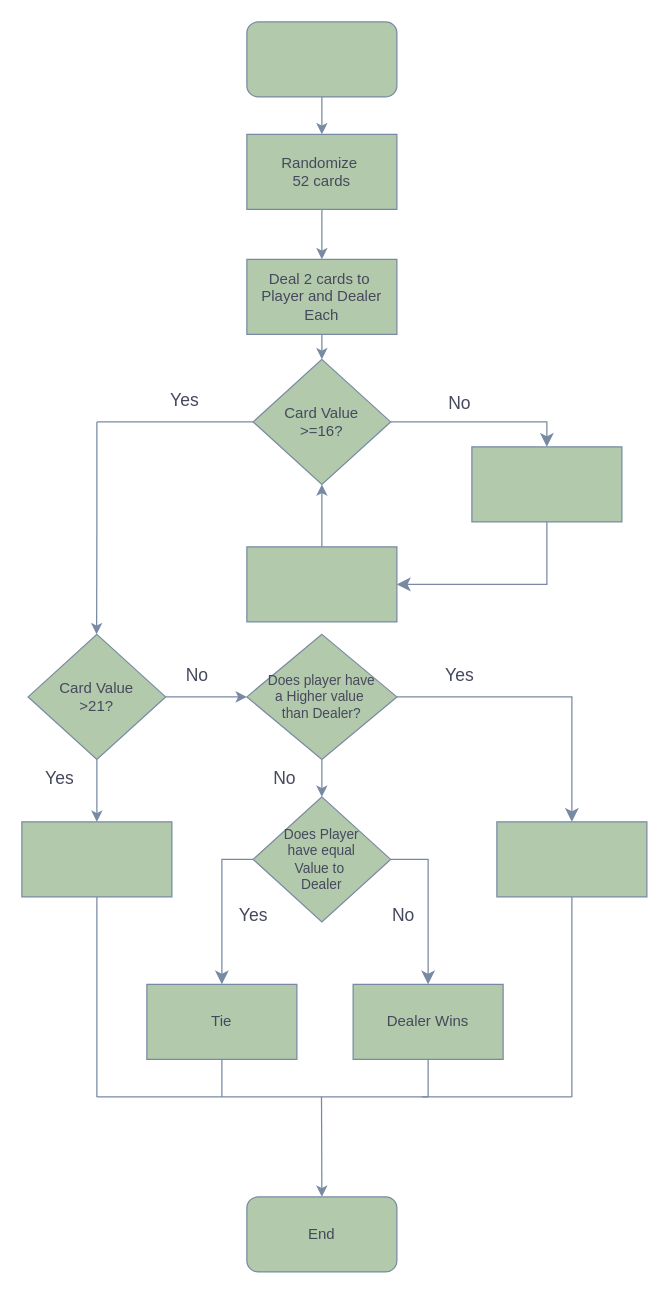
Image size: 669x1294. Some labels were removed from this diagram. Each missing label, with the centre of its shape:
"Add up Total Value of Cards" goes at [321,584].
"Draw Another (Hit)" goes at [546,484].
"Player Loses" goes at [96,859].
"Player Wins" goes at [571,859].
"Start" goes at [321,59].
